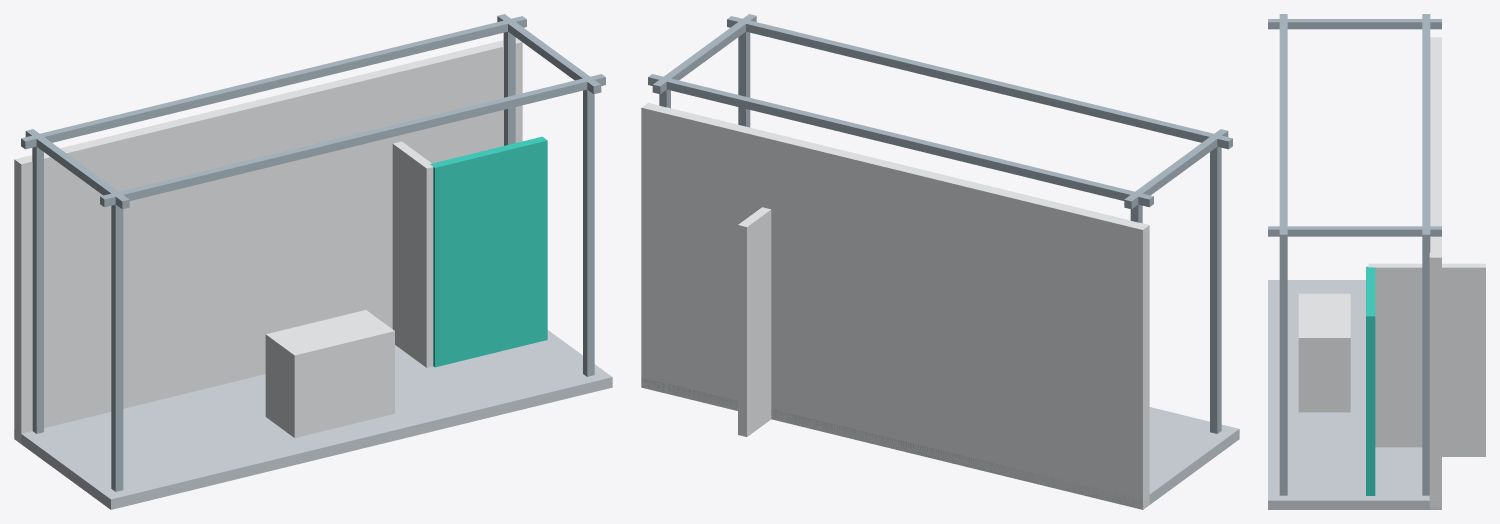
3 renders of one model, left to right at view 1: azimuth 30°, elevation 25°; view 2: azimuth 150°, elevation 25°; view 3: azimuth 270°, elevation 25°, orthographic. The views are drawn at different scales.
Visible parts, largest first — view 1: Exhibition Booth Concept; view 2: Exhibition Booth Concept; view 3: Exhibition Booth Concept.
Boxes of the visible parts, <box> form: Exhibition Booth Concept: <box>14,14,612,509</box>; Exhibition Booth Concept: <box>641,14,1239,509</box>; Exhibition Booth Concept: <box>1268,14,1485,509</box>.
Bounding box in the file's own units: 6 × 3.49 × 2.5.
